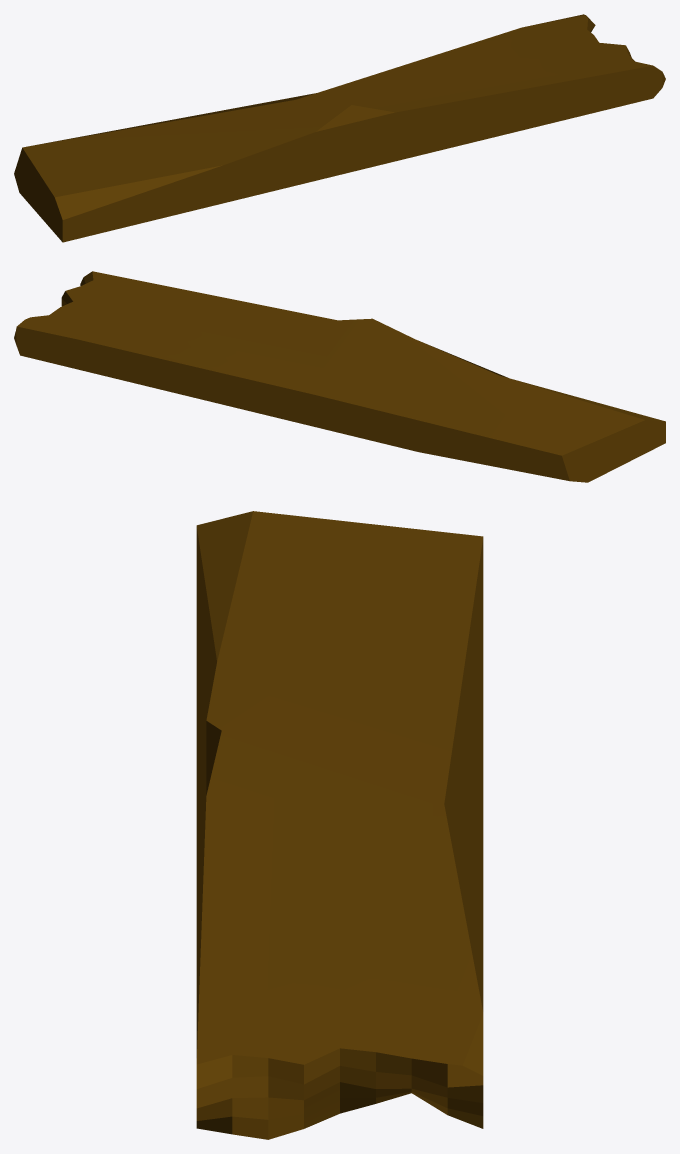
File: broken_plank_1.fbx
3 renders of one model, top to bottom at view 1: azimuth 30°, elevation 25°; view 2: azimuth 150°, elevation 25°; view 3: azimuth 270°, elevation 25°, orthographic. The views are drawn at different scales.
Parts seen in each view (by area): view 1: Wooden_Plank_Broken_1; view 2: Wooden_Plank_Broken_1; view 3: Wooden_Plank_Broken_1.
Part boxes in pixels (<box>): Wooden_Plank_Broken_1: <box>14,14,665,242</box>; Wooden_Plank_Broken_1: <box>14,271,665,482</box>; Wooden_Plank_Broken_1: <box>196,511,483,1139</box>.
Bounding box in the file's own units: 175 × 16.86 × 37.12.
